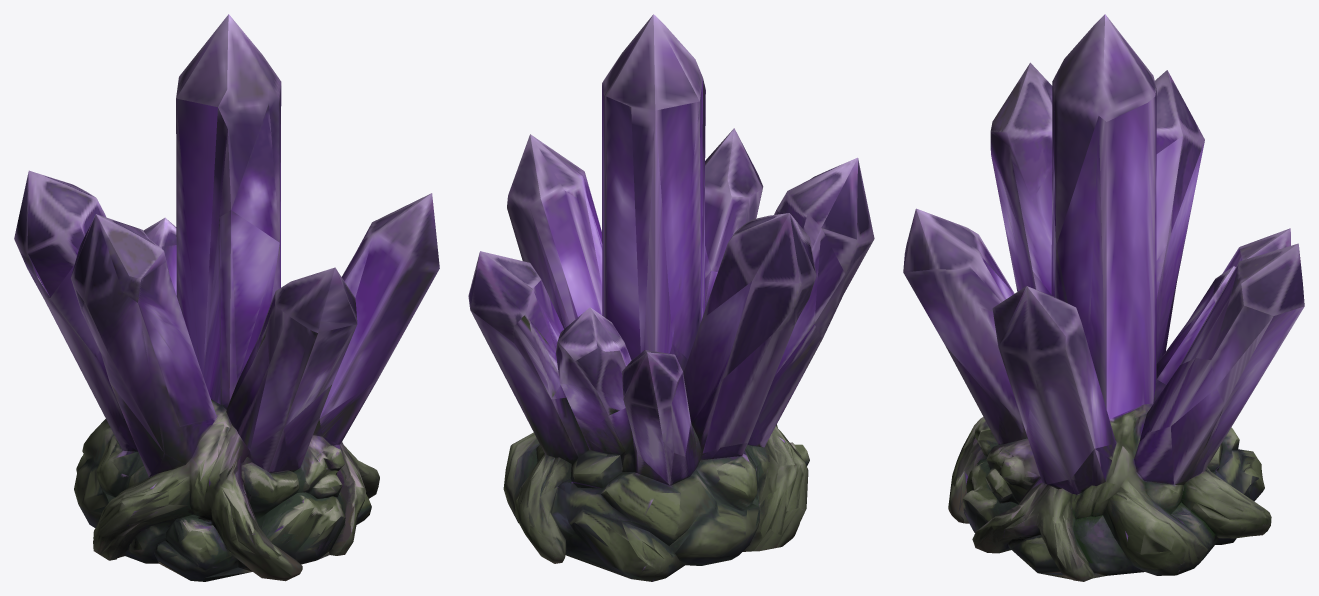
The picture shows the model from 3 angles, left to right: view 1: azimuth 30°, elevation 25°; view 2: azimuth 150°, elevation 25°; view 3: azimuth 270°, elevation 25°; orthographic projection.
Parts seen in each view (by area): view 1: aether_crystal; view 2: aether_crystal; view 3: aether_crystal.
Part boxes in pixels (left/top/right/bottom): aether_crystal: left=14, top=14, right=439, bottom=581; aether_crystal: left=468, top=14, right=874, bottom=581; aether_crystal: left=903, top=14, right=1304, bottom=581.
Bounding box in the file's own units: 1.4 × 1.9 × 1.36.
Materials: 1 (1 with a texture image).
